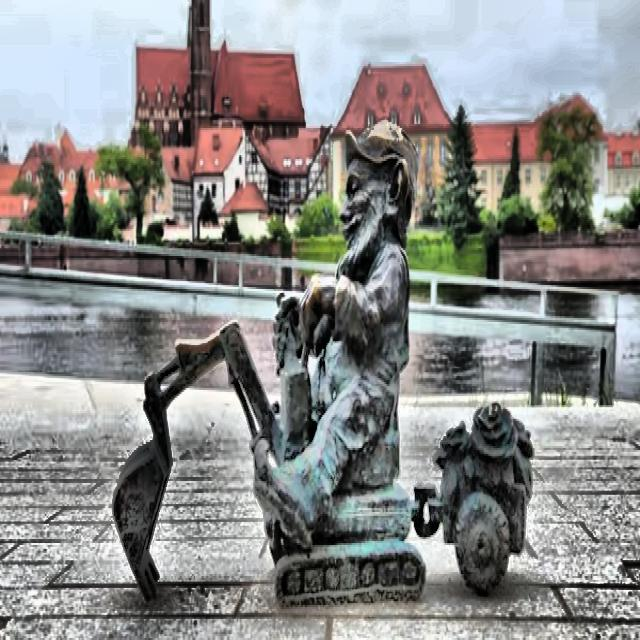Koparkus: (112, 120, 531, 605)
